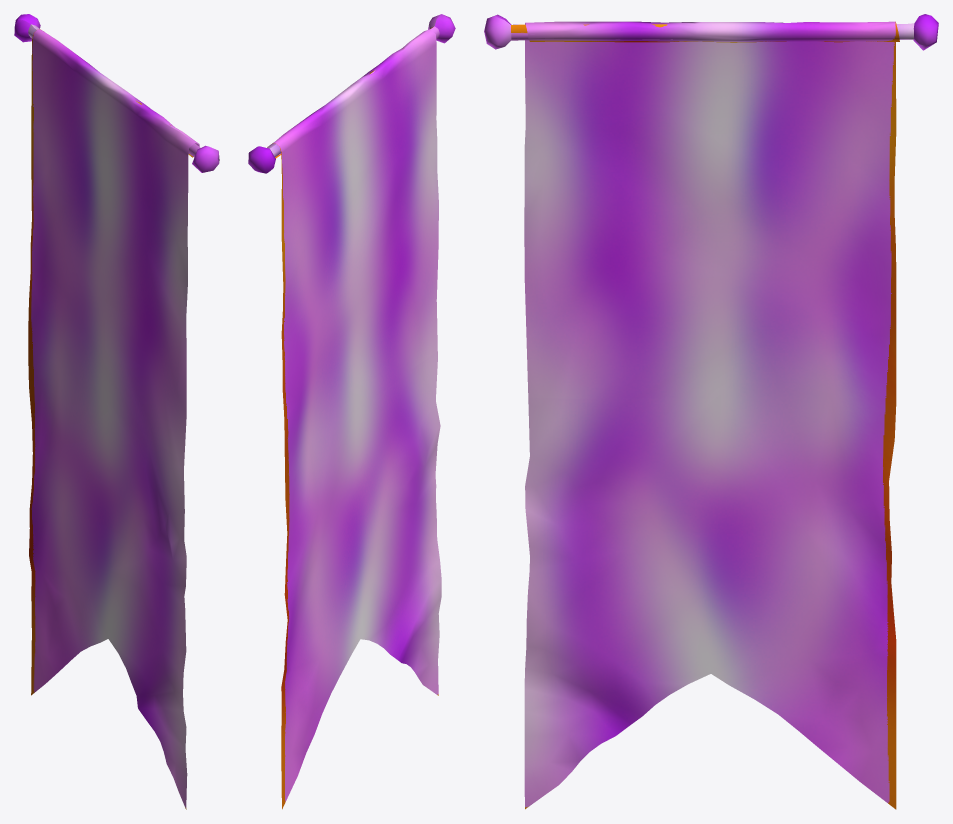
File: SM_Banner_Variant_01b.fbx
3 renders of one model, left to right at view 1: azimuth 30°, elevation 25°; view 2: azimuth 150°, elevation 25°; view 3: azimuth 270°, elevation 25°, orthographic. The views are drawn at different scales.
Parts seen in each view (by area): view 1: SM_Banner_Variant_01b_LOD0; view 2: SM_Banner_Variant_01b_LOD0; view 3: SM_Banner_Variant_01b_LOD0.
Boxes of the visible parts, box(x1,y1,x2,y2) form: SM_Banner_Variant_01b_LOD0: box(14, 14, 219, 809); SM_Banner_Variant_01b_LOD0: box(248, 14, 455, 809); SM_Banner_Variant_01b_LOD0: box(484, 14, 938, 809).
Bounding box in the file's own units: 33.28 × 408 × 791.
